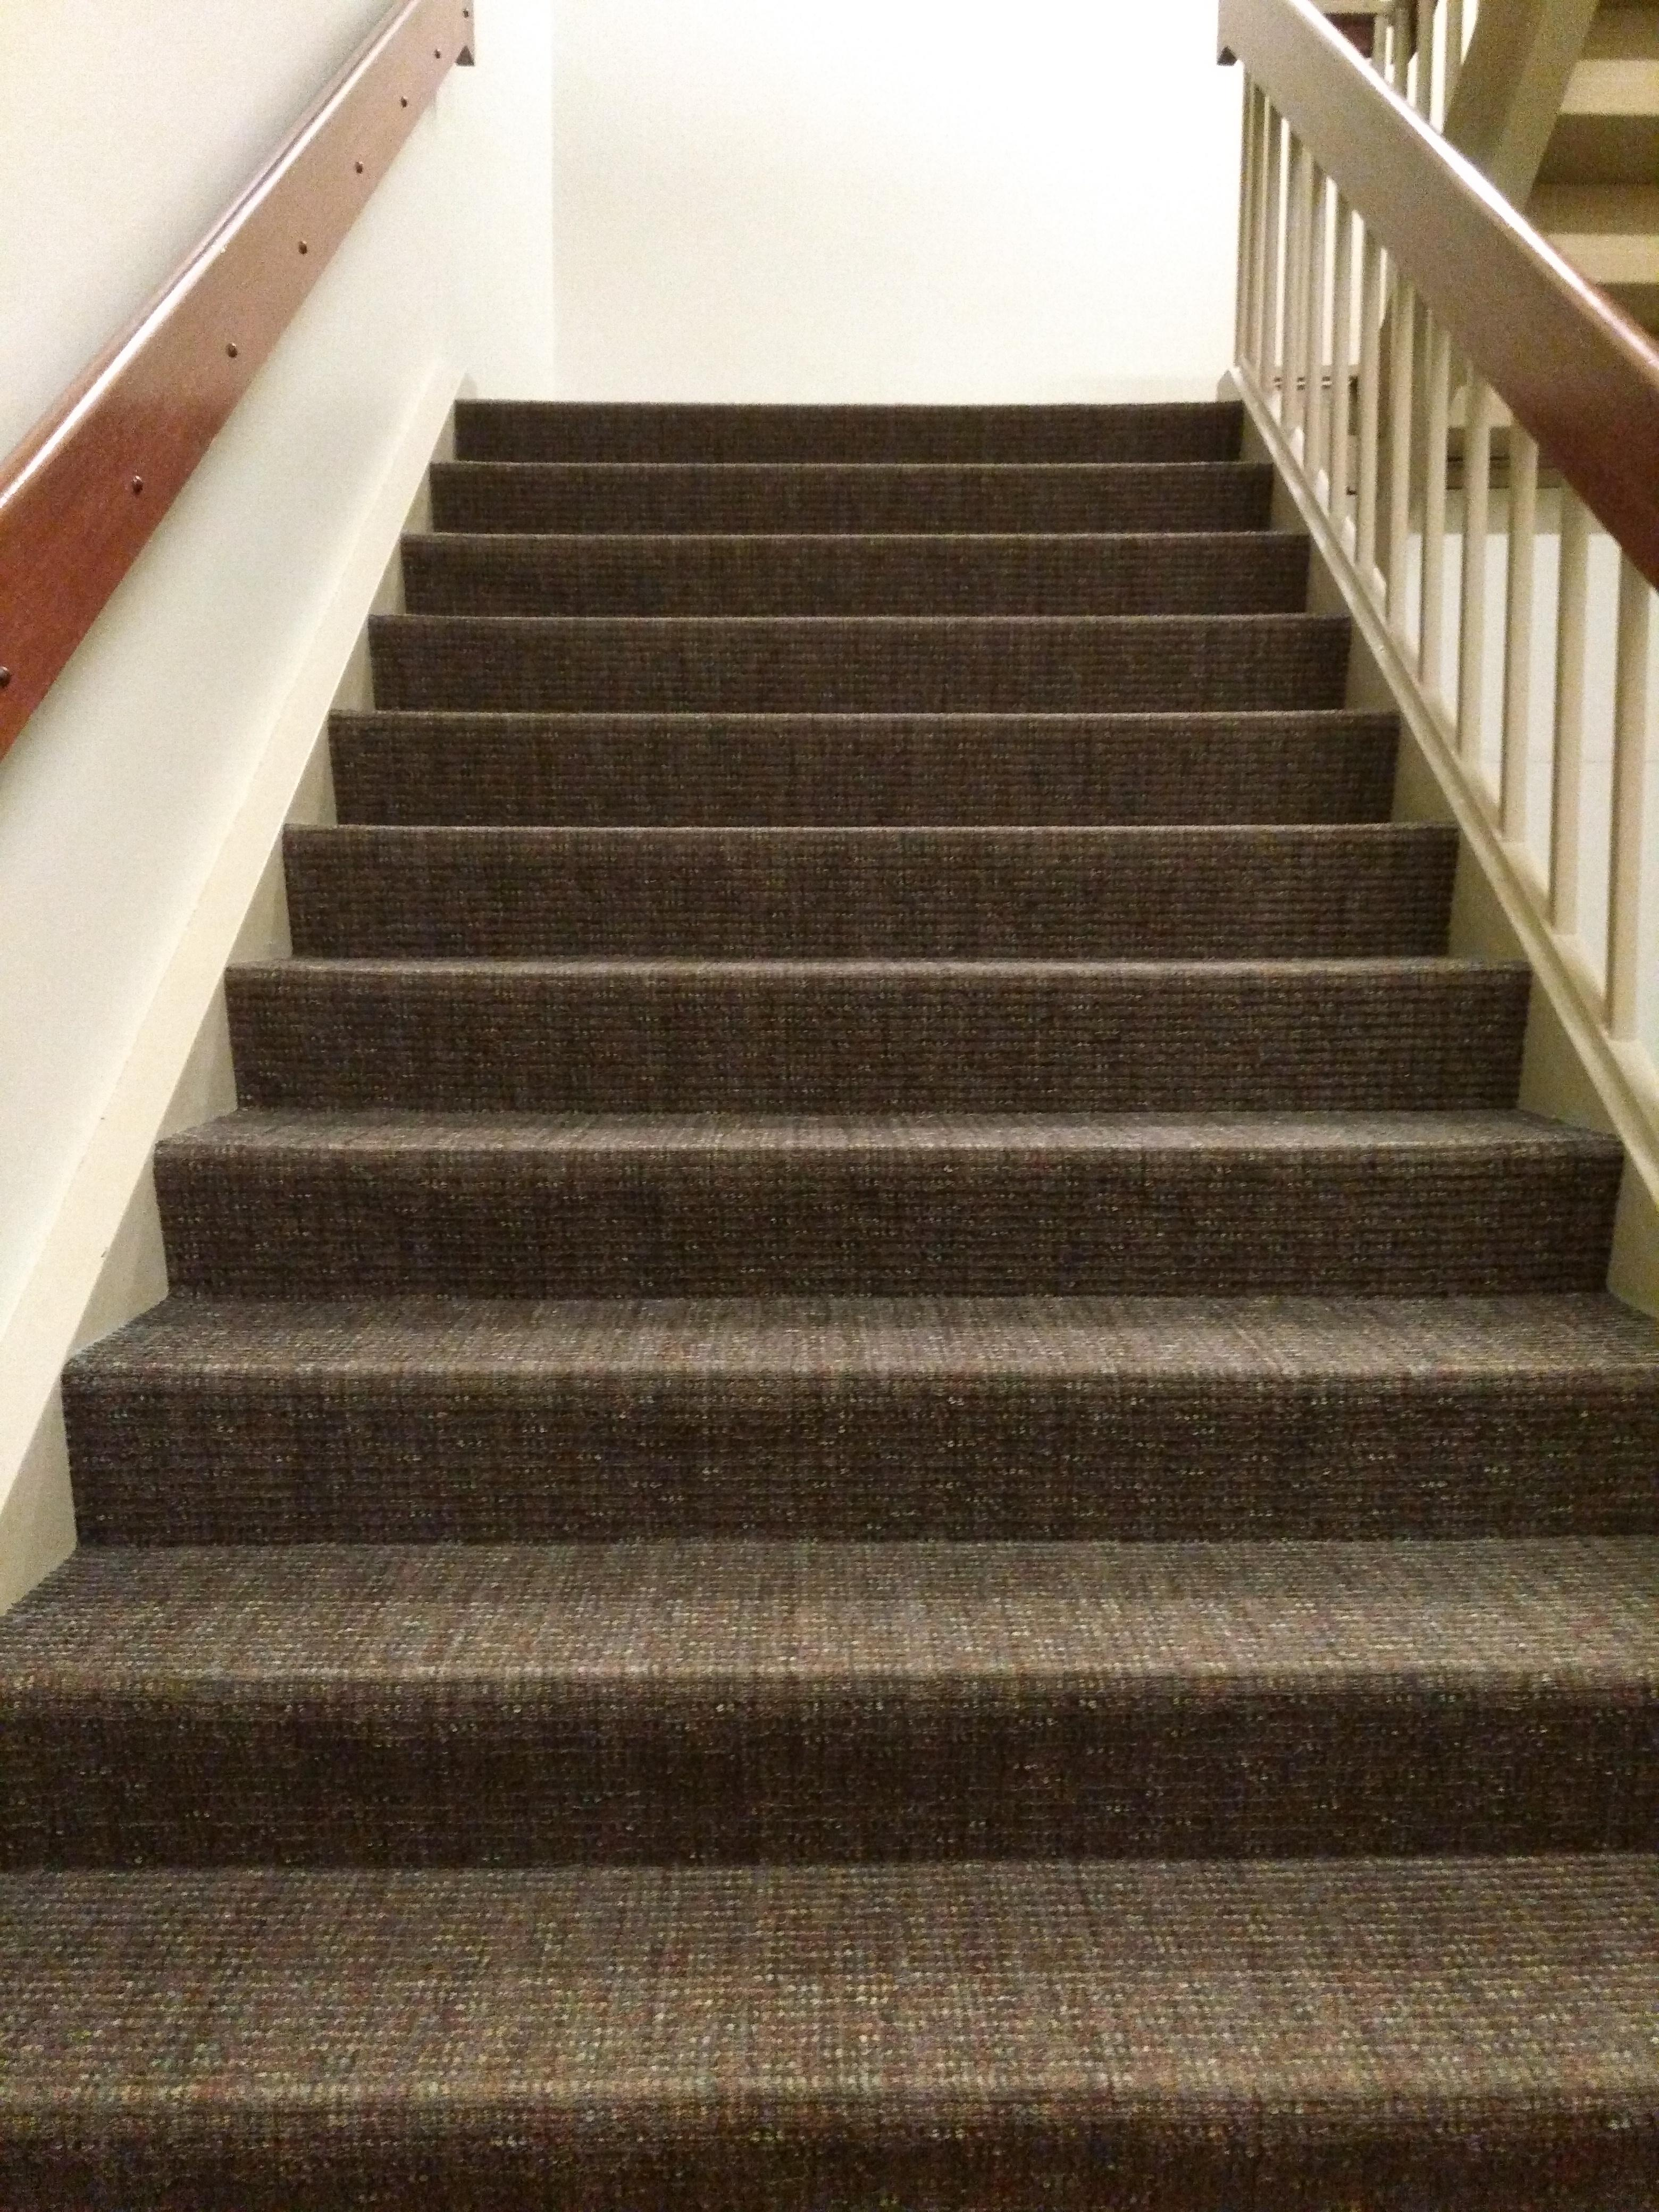stairs_up: (5, 368, 1659, 2163)
